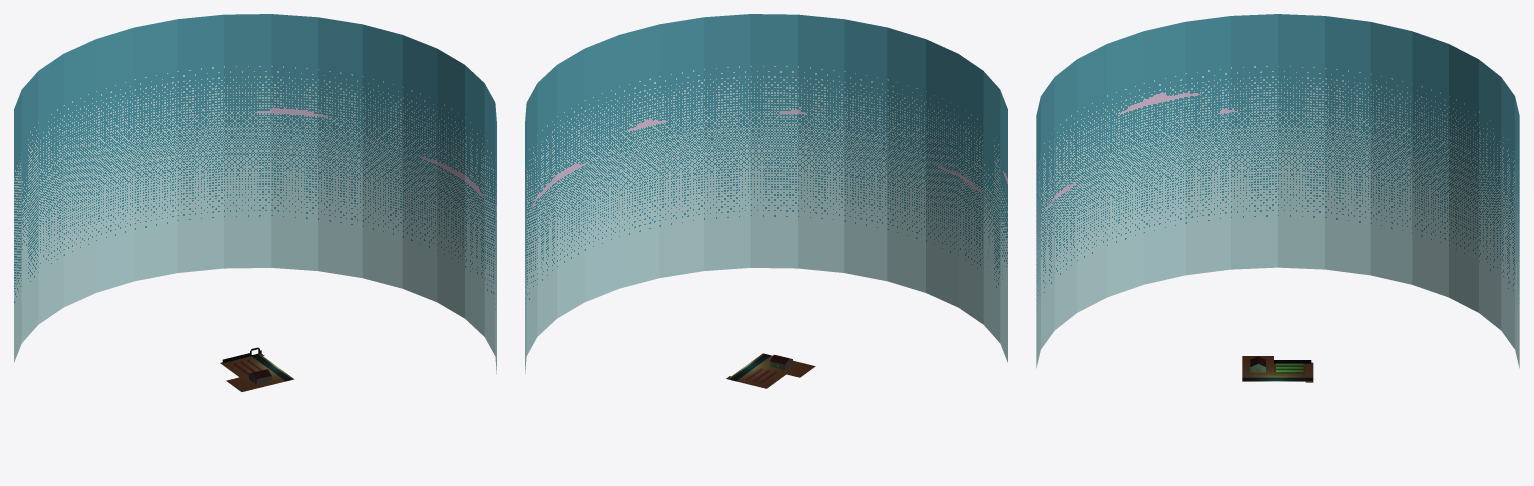
File: map.glb
The picture shows the model from 3 angles, left to right: view 1: azimuth 30°, elevation 25°; view 2: azimuth 150°, elevation 25°; view 3: azimuth 270°, elevation 25°; orthographic projection.
Parts seen in each view (by area): view 1: sky, level -col; view 2: sky, level -col; view 3: sky, level -col.
Part boxes in pixels (bbox=[...]): sky: bbox=[14, 14, 496, 374]; level -col: bbox=[220, 347, 293, 391]; sky: bbox=[525, 14, 1007, 374]; level -col: bbox=[726, 353, 815, 388]; sky: bbox=[1036, 14, 1519, 368]; level -col: bbox=[1242, 356, 1313, 382].
Bounding box in the file's own units: 763 × 444 × 763.
Materials: 1 (1 with a texture image).
